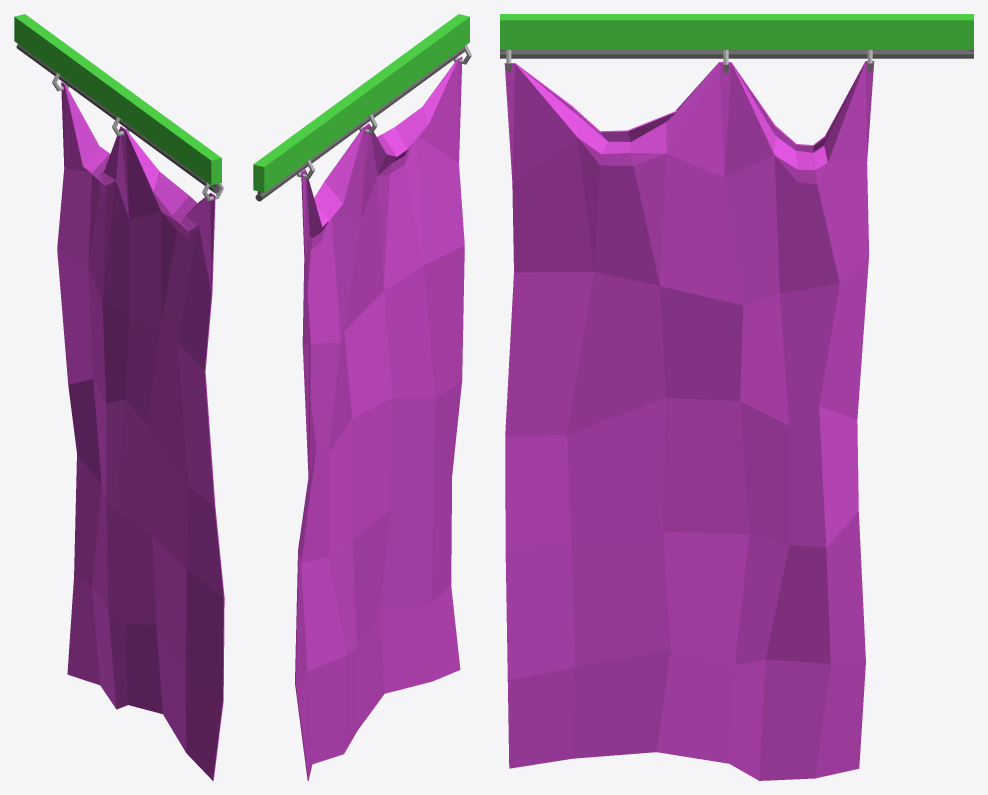
Rendered from Curtain_01_D.fbx.
3 renders of one model, left to right at view 1: azimuth 30°, elevation 25°; view 2: azimuth 150°, elevation 25°; view 3: azimuth 270°, elevation 25°, orthographic. The views are drawn at different scales.
Parts seen in each view (by area): view 1: Curtain_01_D; view 2: Curtain_01_D; view 3: Curtain_01_D.
Boxes of the visible parts, x1,y1,x2,y2 form: Curtain_01_D: (14,14,224,780); Curtain_01_D: (253,14,471,780); Curtain_01_D: (500,14,973,780).
Bounding box in the file's own units: 29.89 × 485 × 274.
